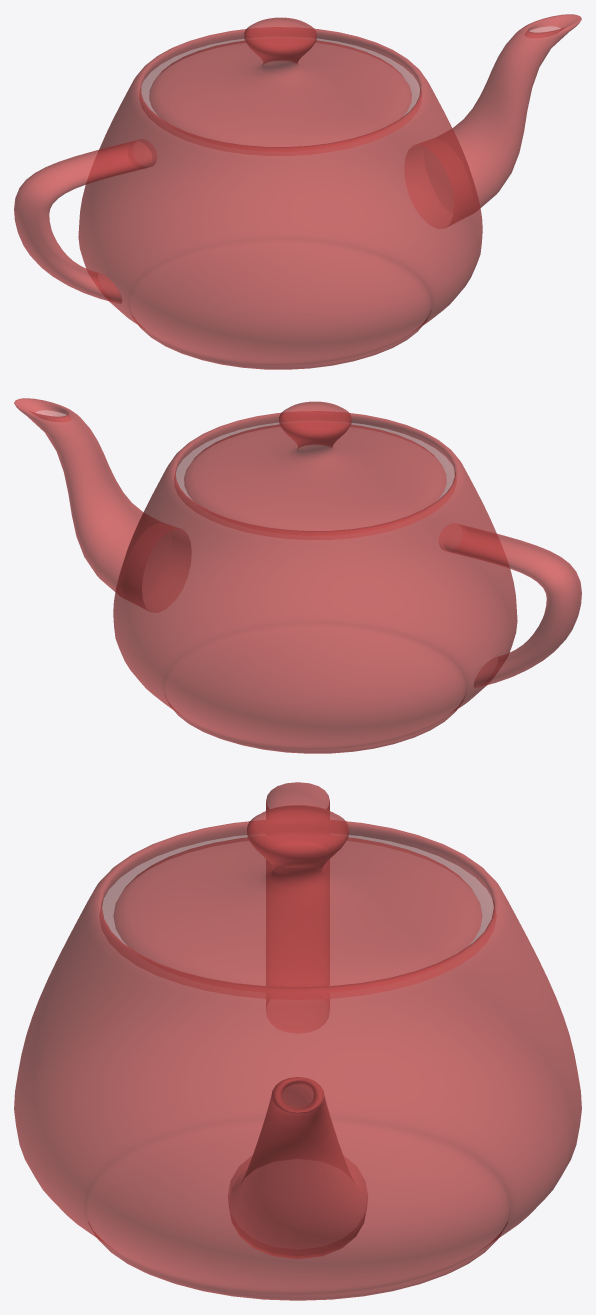
File: teapot_transparent.fbx
3 renders of one model, top to bottom at view 1: azimuth 30°, elevation 25°; view 2: azimuth 150°, elevation 25°; view 3: azimuth 270°, elevation 25°, orthographic. The views are drawn at different scales.
Parts seen in each view (by area): view 1: teapot:default1; view 2: teapot:default1; view 3: teapot:default1.
Boxes of the visible parts, box(x1,y1,x2,y2) form: teapot:default1: box(14, 14, 581, 369); teapot:default1: box(14, 398, 581, 753); teapot:default1: box(14, 782, 581, 1300).
Bounding box in the file's own units: 0.8267 × 0.4053 × 0.5146.
